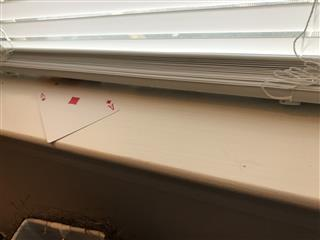AceOfDiamonds: (36, 81, 119, 143)
